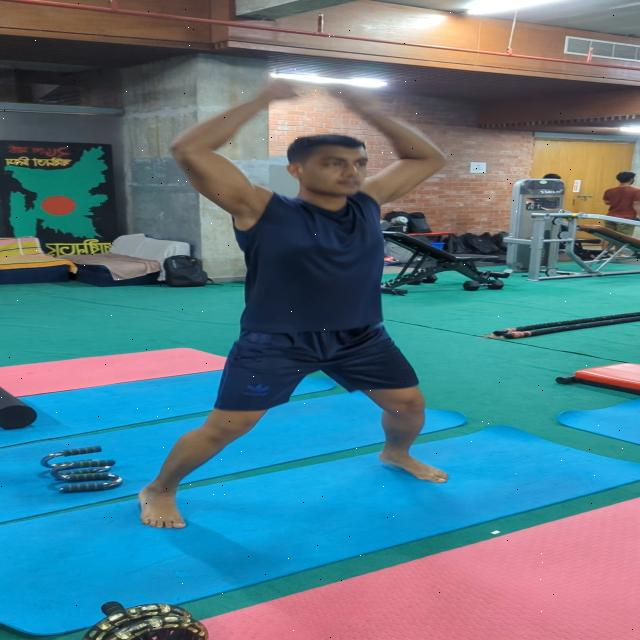Normal_JumpingJacks: (93, 68, 506, 556)
